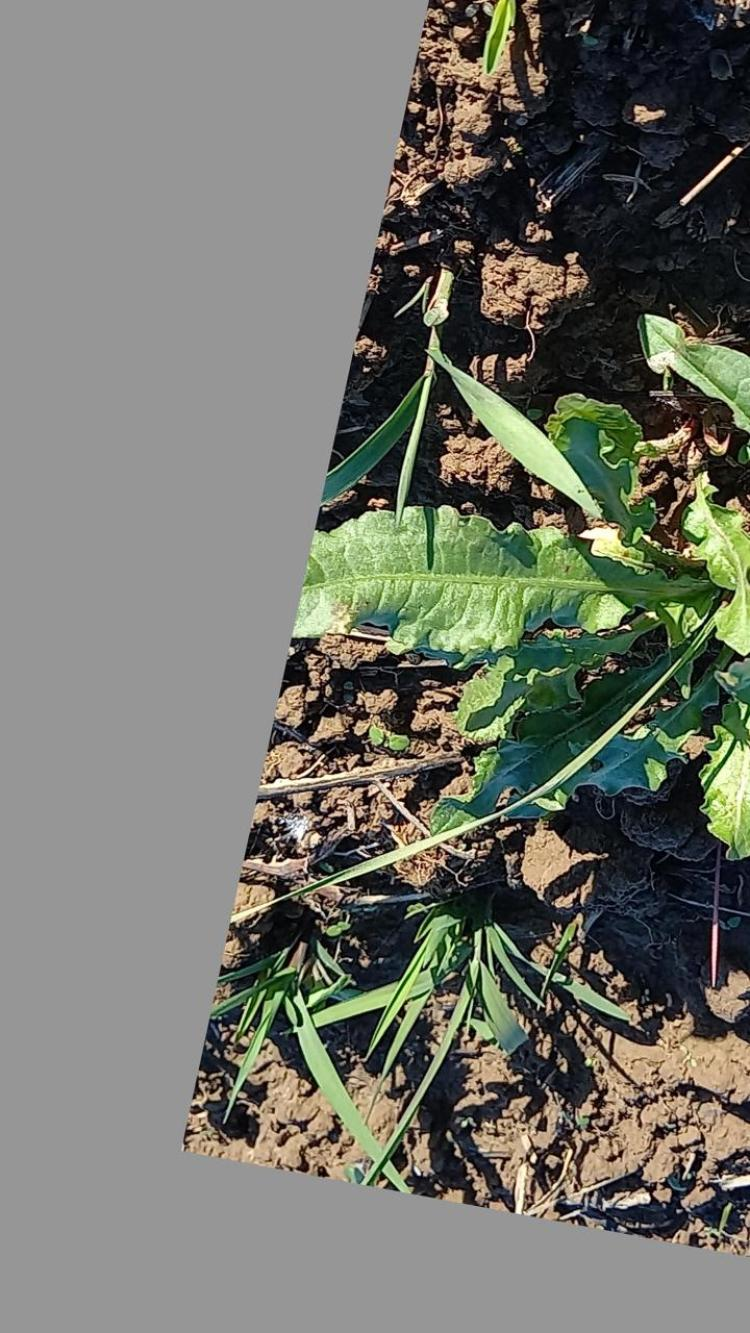zhavel: (291, 310, 750, 862)
